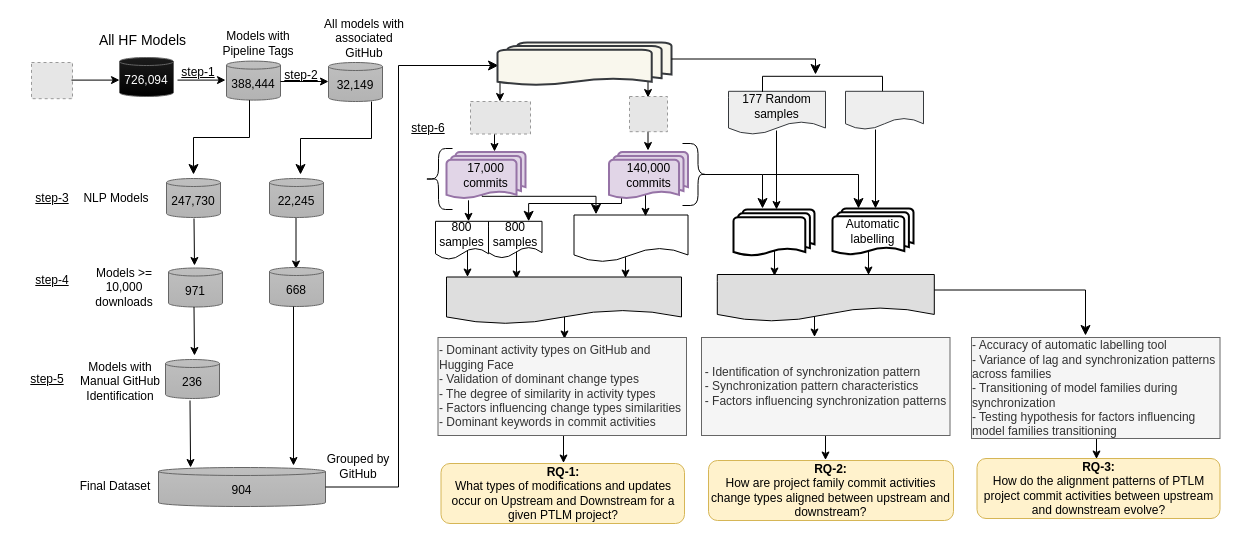
Some shapes in this 1237 by 542 pixel diagram are drawn without their labels. Grey dashed boxes stand in for pictures. The centre of each missing label's shape, as x and y in pixels:
325 Model Families: the point at 584,63
Combined dataset: the point at 825,298
Combined dataset for determining change types on GitHub and Hugging Face: the point at 564,300
Manual labelling: the point at 773,232
Remaining commits: the point at 630,238
Remaining samples: the point at 884,110
